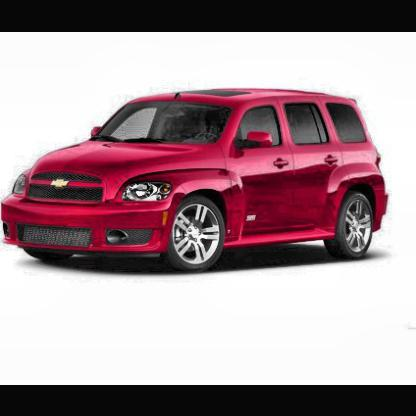Chevrolet HHR SS 2010: (2, 87, 395, 278)
